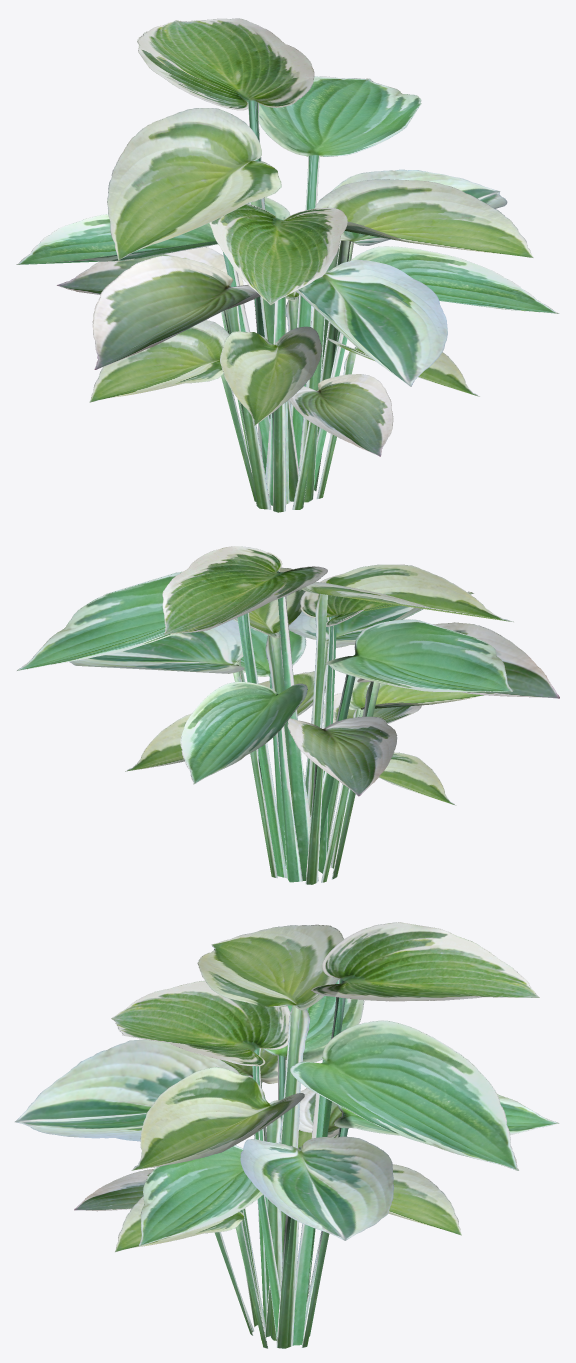
The model's file is plant_small_wg_00E2.fbx.
The picture shows the model from 3 angles, top to bottom: view 1: azimuth 30°, elevation 25°; view 2: azimuth 150°, elevation 25°; view 3: azimuth 270°, elevation 25°; orthographic projection. The views are drawn at different scales.
Parts seen in each view (by area): view 1: plant_small_wg_00E2; view 2: plant_small_wg_00E2; view 3: plant_small_wg_00E2.
Part boxes in pixels (<box>): plant_small_wg_00E2: <box>16,18,559,512</box>; plant_small_wg_00E2: <box>17,546,559,884</box>; plant_small_wg_00E2: <box>15,922,559,1348</box>.
Size of the model in its own units: 64.01 by 48.74 by 63.68.
Materials: 1 (1 with a texture image).
